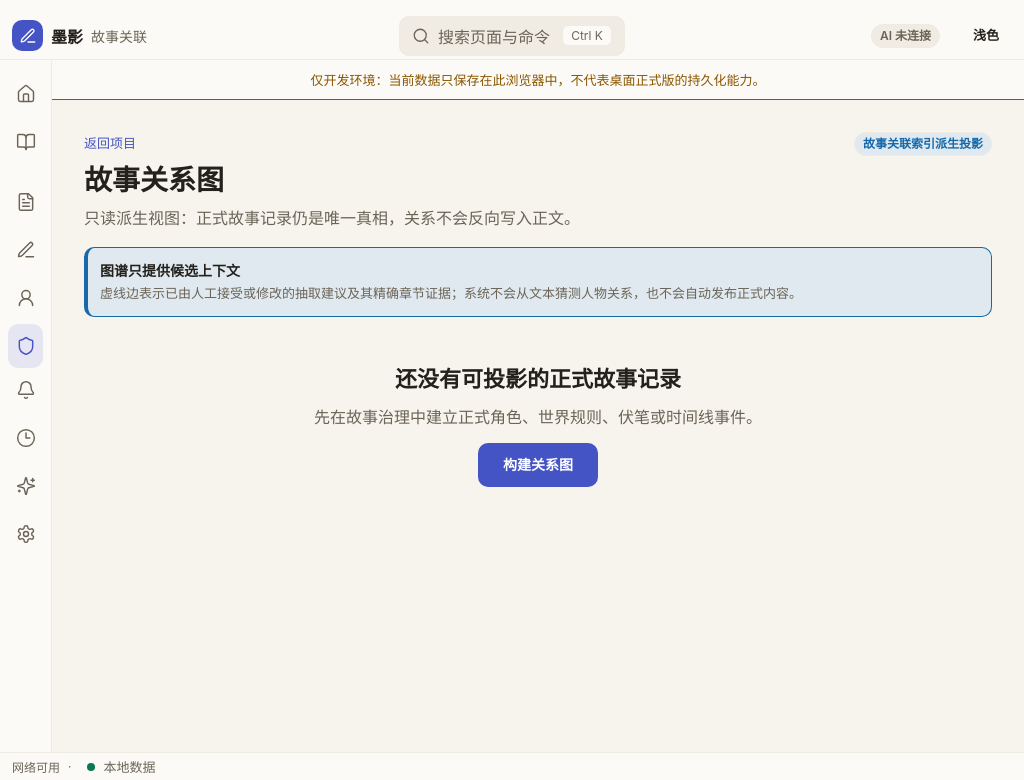
Scenario: ProjectGraphPage feature boundary › keeps rebuild failure codes out of the ordinary graph page
Step 1. Click the button "构建关系图" → [538, 465], box [478,443,598,487]
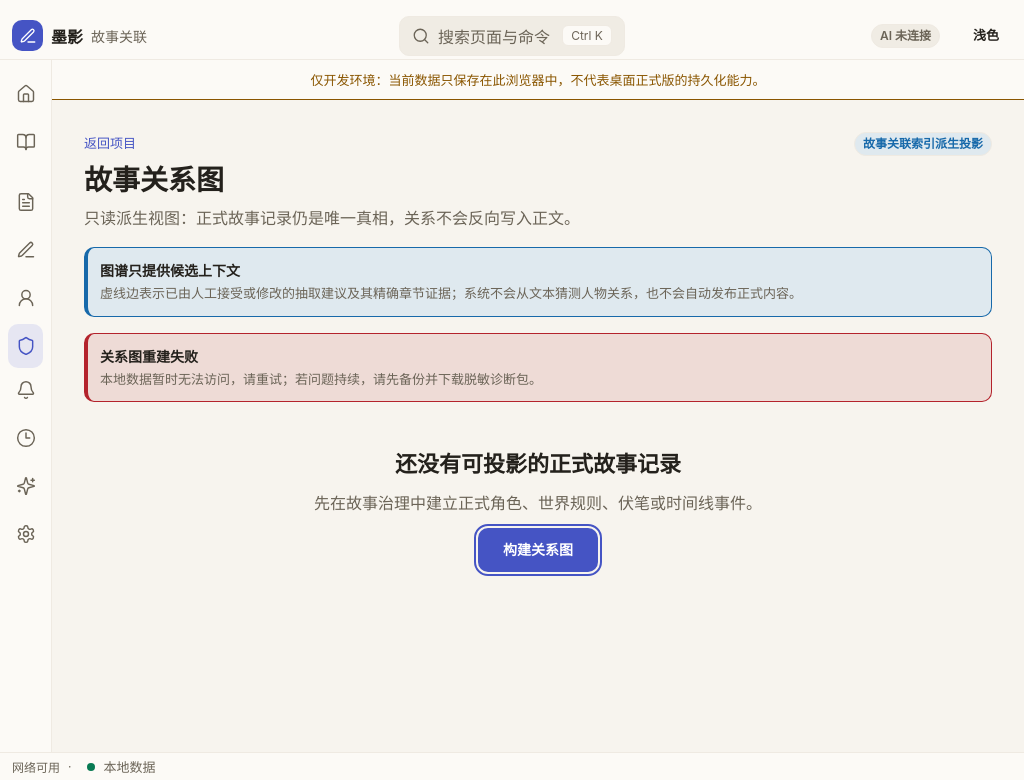
Now the text "关系图重建失败" is shown, box [100,348,198,365]
